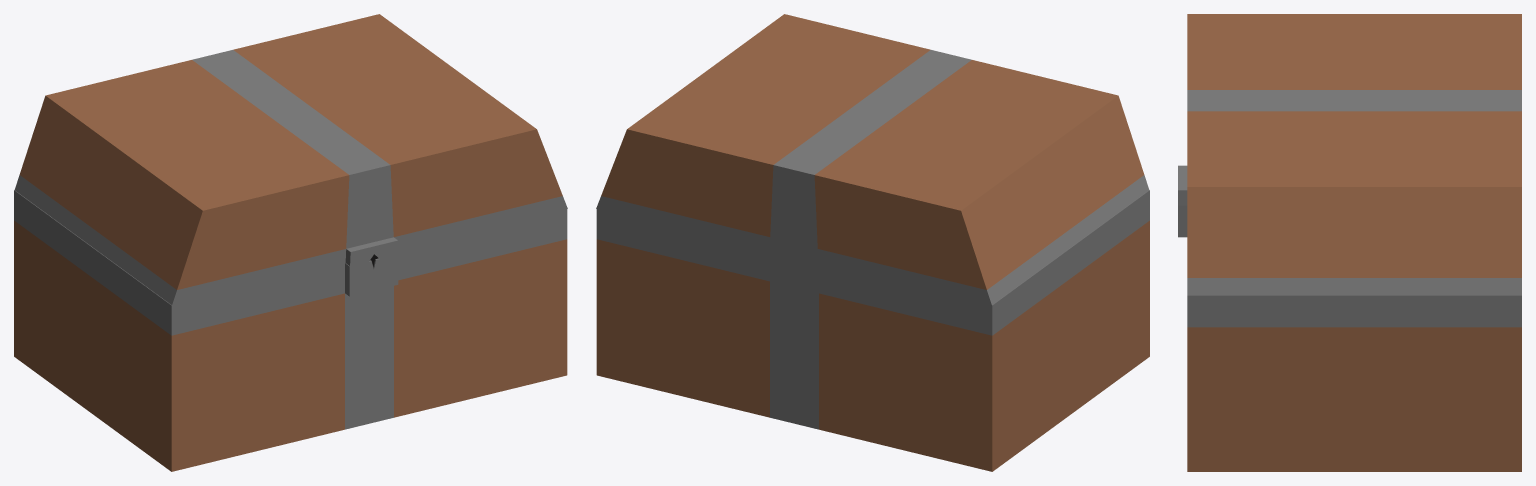
The model's file is Chest.fbx.
The picture shows the model from 3 angles, left to right: view 1: azimuth 30°, elevation 25°; view 2: azimuth 150°, elevation 25°; view 3: azimuth 270°, elevation 25°; orthographic projection. The views are drawn at different scales.
Parts seen in each view (by area): view 1: Cube.009, Cube.007; view 2: Cube.009, Cube.007; view 3: Cube.009, Cube.007.
Boxes of the visible parts, left/top/right/bottom form: Cube.009: left=14, top=14, right=567, bottom=305; Cube.007: left=14, top=190, right=567, bottom=471; Cube.009: left=596, top=14, right=1149, bottom=305; Cube.007: left=596, top=190, right=1149, bottom=471; Cube.009: left=1178, top=14, right=1521, bottom=295; Cube.007: left=1178, top=205, right=1521, bottom=471.
Bounding box in the file's own units: 291 × 178 × 206.
